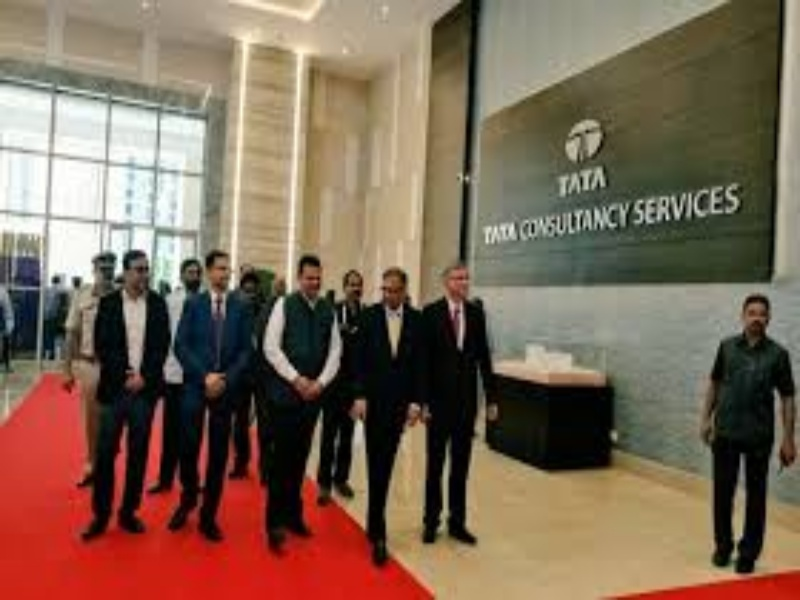tcs: (559, 117, 608, 164)
